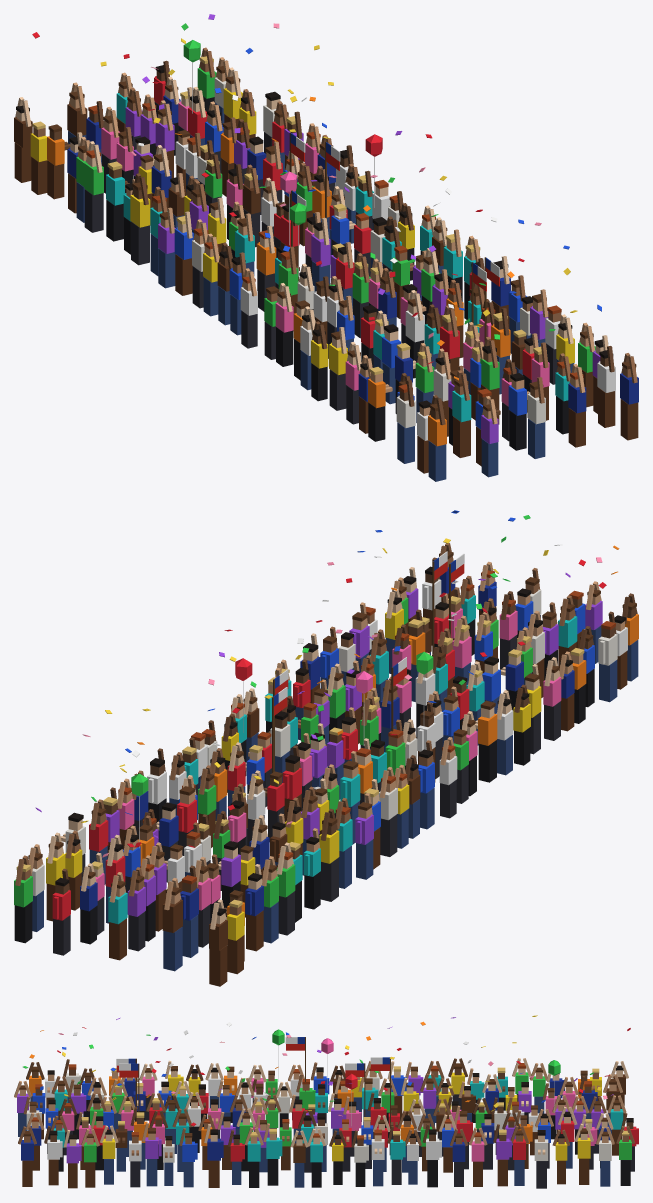
Rendered from multitud_larga_2.obj.
The picture shows the model from 3 angles, top to bottom: view 1: azimuth 30°, elevation 25°; view 2: azimuth 150°, elevation 25°; view 3: azimuth 270°, elevation 25°; orthographic projection. The views are drawn at different scales.
Visible parts, largest first — view 1: multitud_larga_2; view 2: multitud_larga_2; view 3: multitud_larga_2.
Part boxes in pixels (x1,y1,x2,y2): multitud_larga_2: (14, 14, 638, 481); multitud_larga_2: (14, 510, 638, 986); multitud_larga_2: (14, 1015, 638, 1188).
Size of the model in its own units: 5.22 by 3.66 by 18.43.
